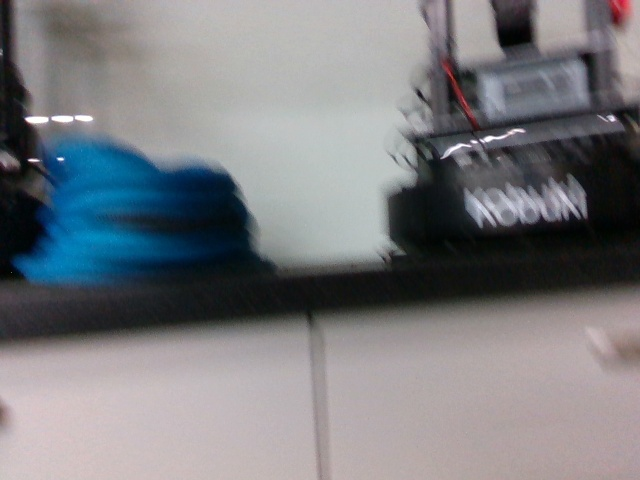rope: (11, 129, 278, 292)
